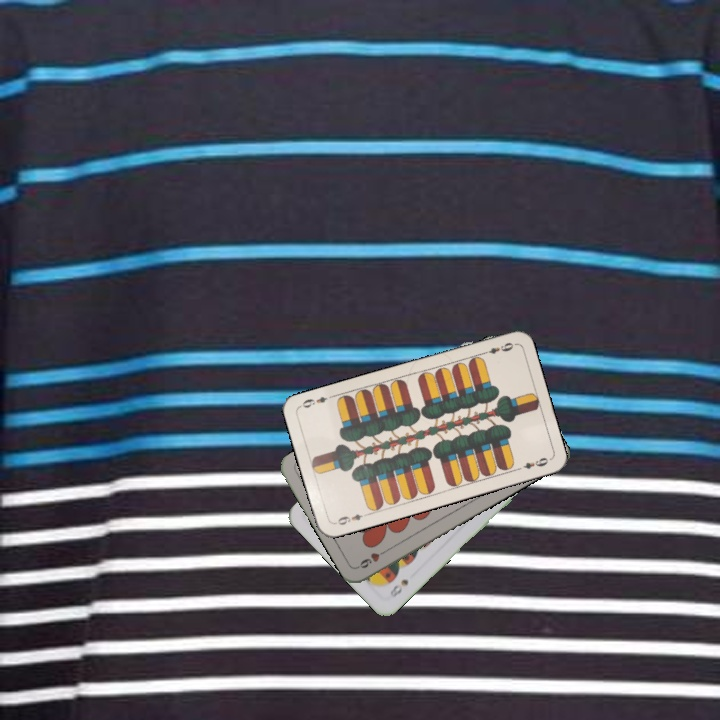E9: (477, 338, 516, 357), (331, 510, 365, 528)
H9: (354, 545, 391, 571)
S8: (386, 575, 411, 600)
